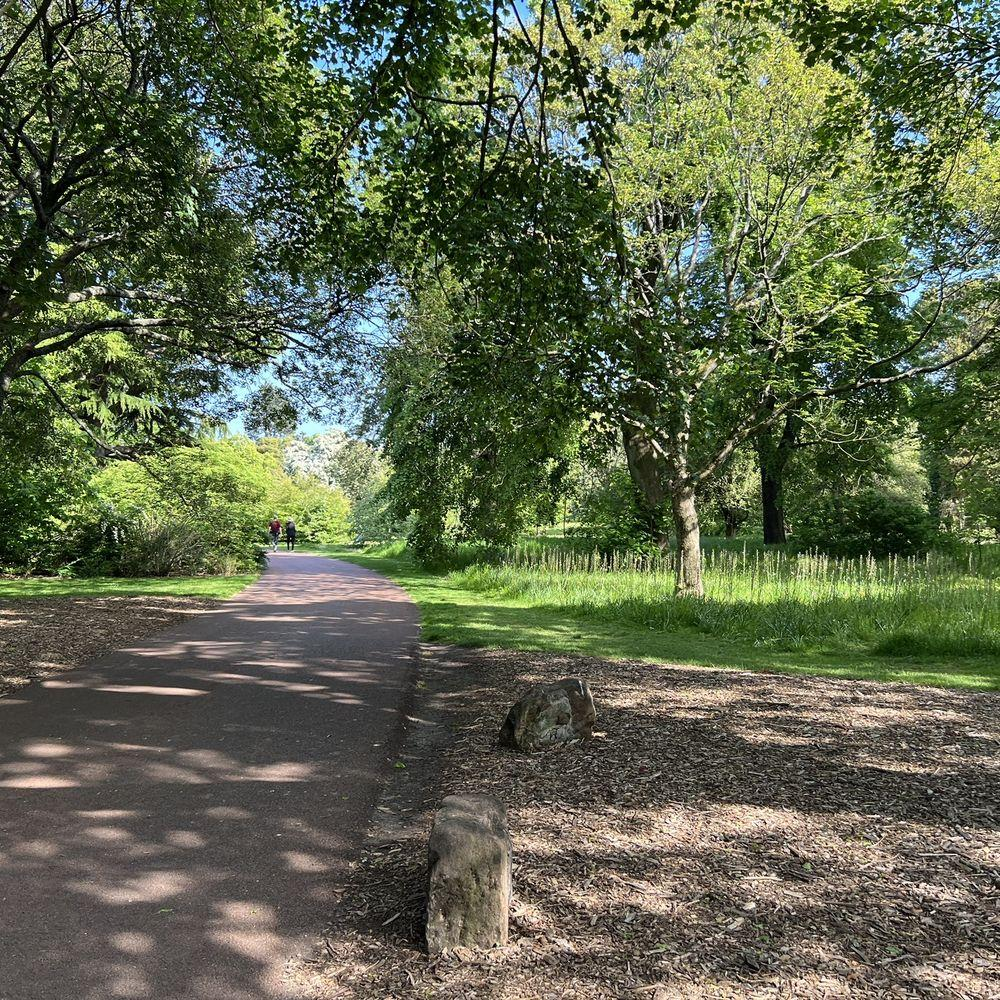overgrown grass: (423, 544, 999, 658), (69, 513, 266, 577)
